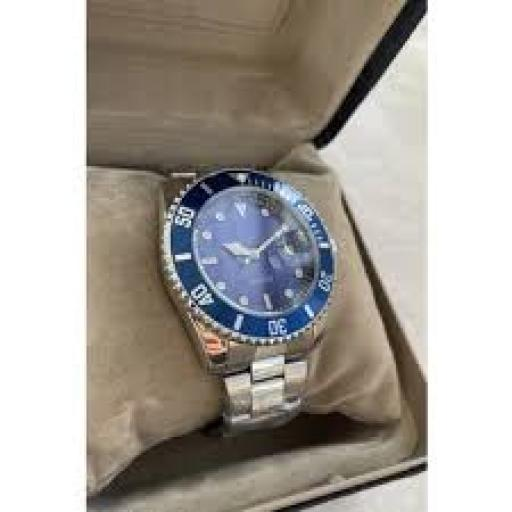KolSaati: (130, 123, 370, 445)
